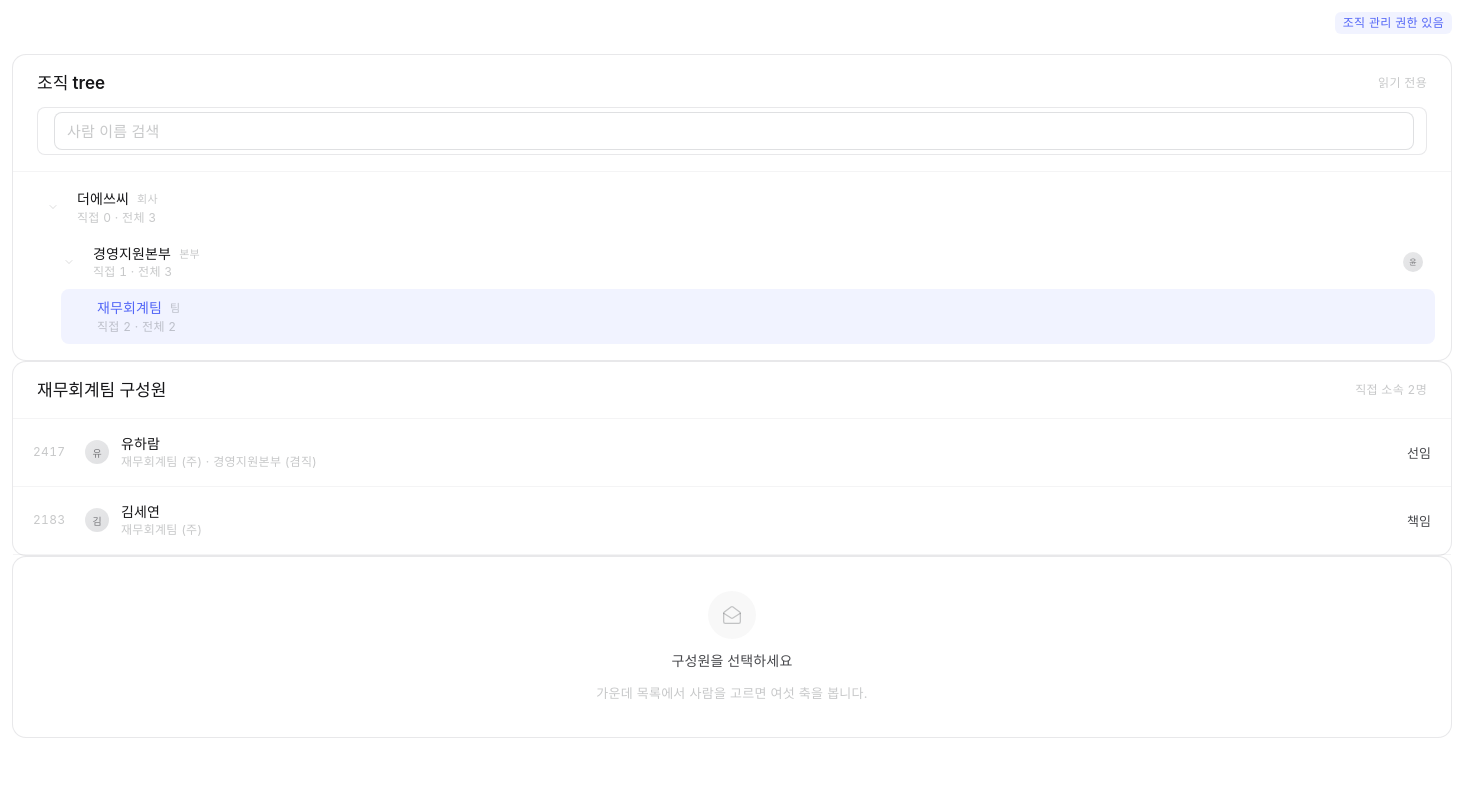
Test: OrgPage — 축별 이력 › 「이력」을 누르면 그 축의 이력을 팝오버로 편다
The image size is (1464, 810).
Click the button "2417 유 유하람 재무회계팀 (주) · 경영지원본부 (겸직) 선임".
click(49, 452)  # box [13, 419, 1451, 487]
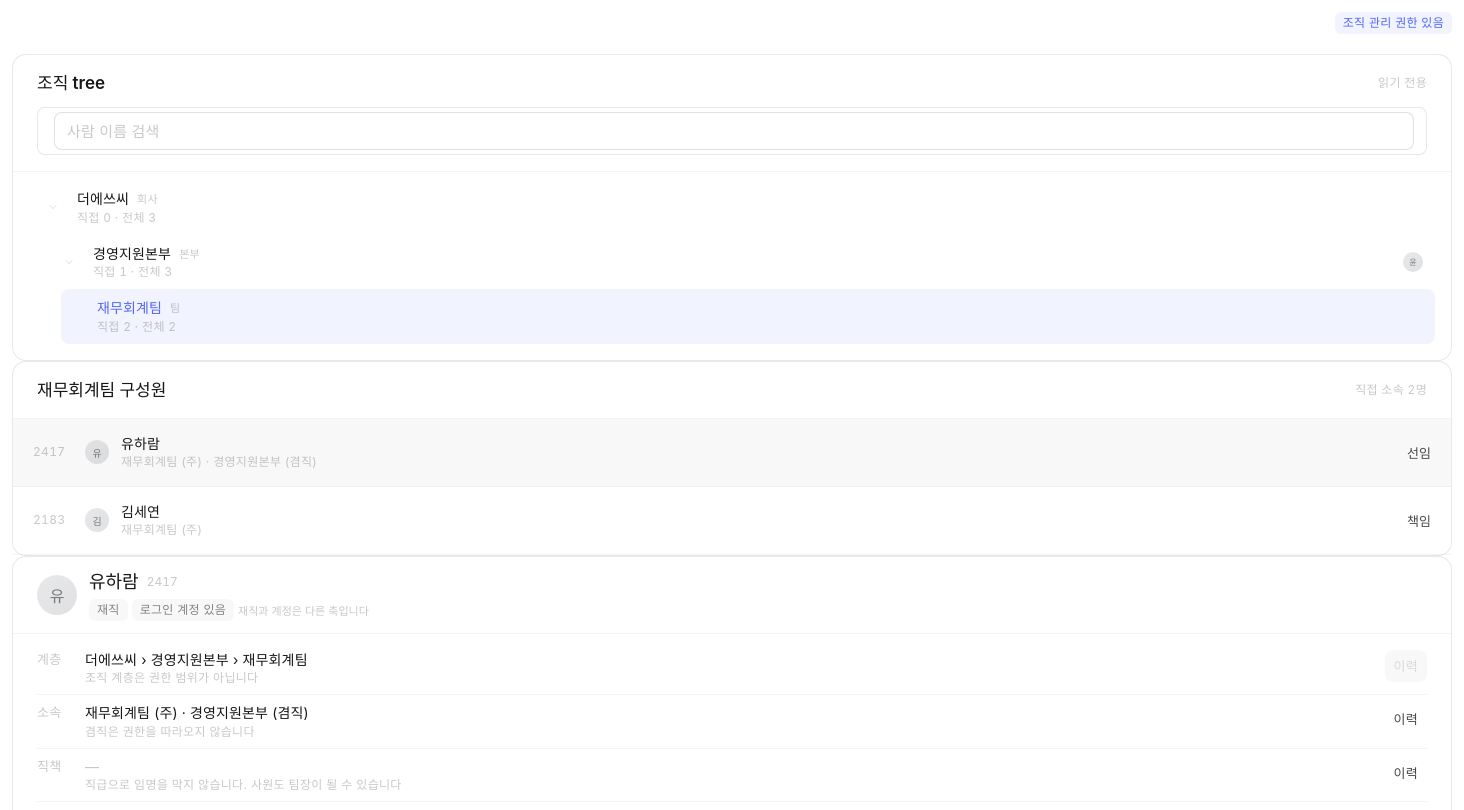
Click the button "이력" in the row of "겸직은 권한을 따라오지 않습니다".
click(1406, 719)  # box [1385, 703, 1427, 735]
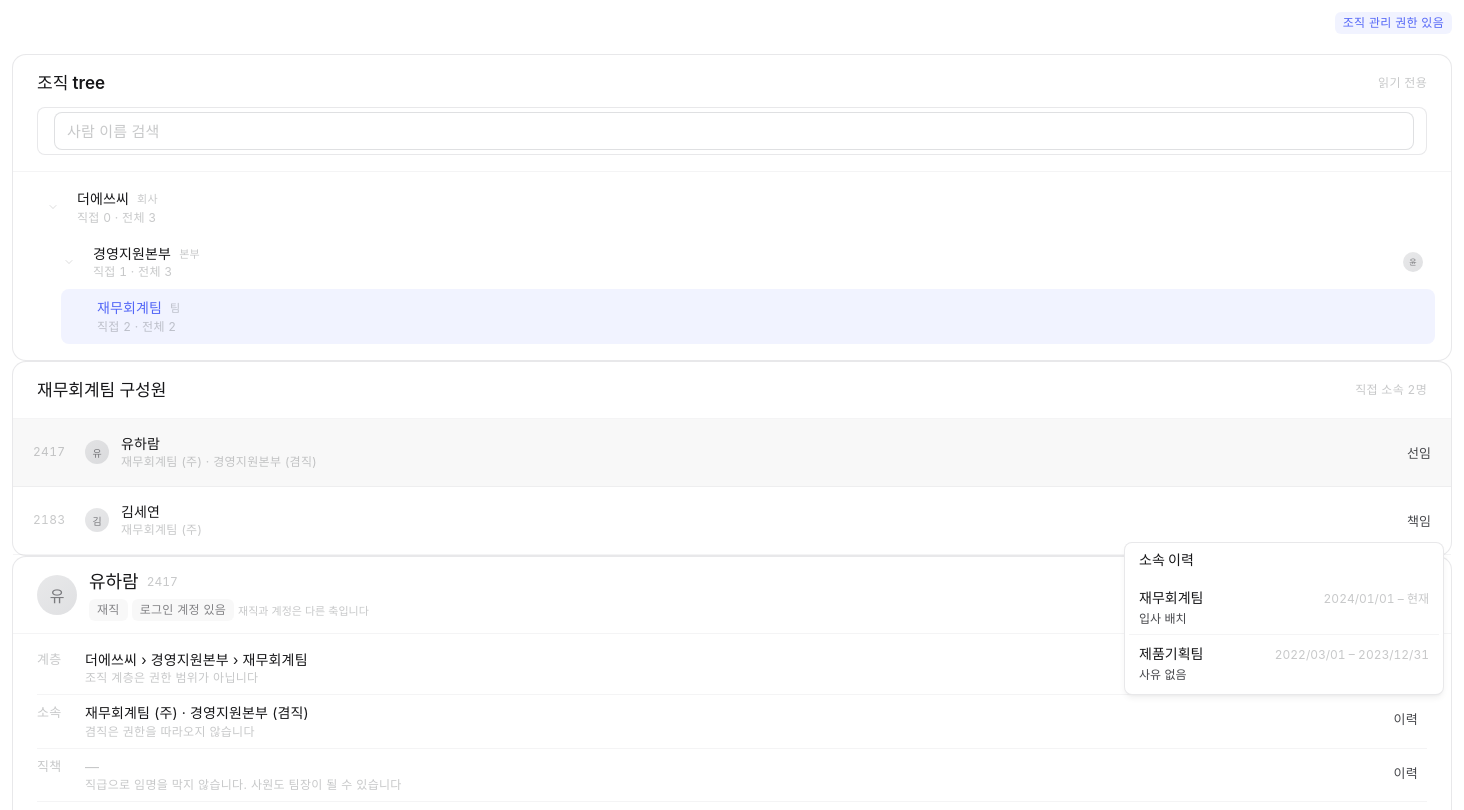
expect the text "재무회계팀" next to "2024/01/01 – 현재" is shown: met, box [1139, 589, 1203, 606]
expect the text "2024/01/01 – 현재" is shown: met, box [1324, 589, 1429, 606]
expect the text "2022/03/01 – 2023/12/31" is shown: met, box [1275, 647, 1429, 662]
